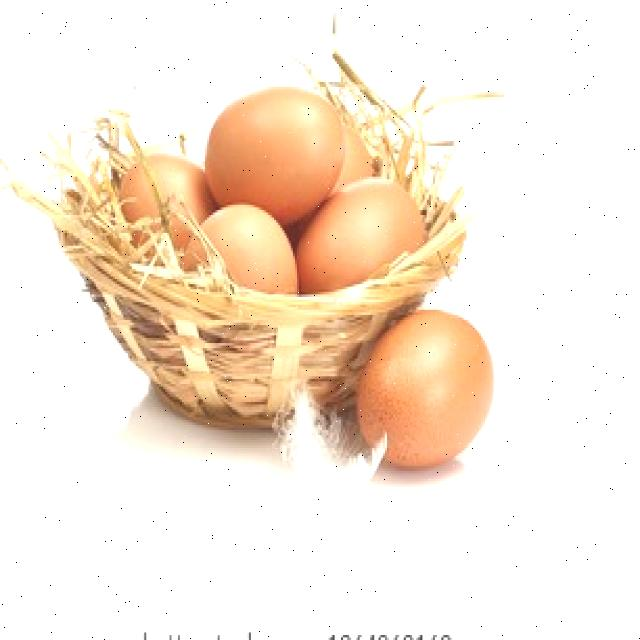Brown Egg: (343, 308, 498, 472), (196, 76, 348, 225), (294, 178, 426, 292), (180, 203, 302, 302)
